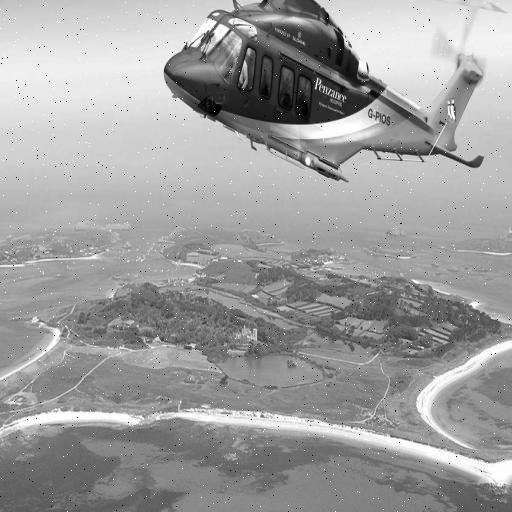helicopter: (154, 1, 508, 190)
